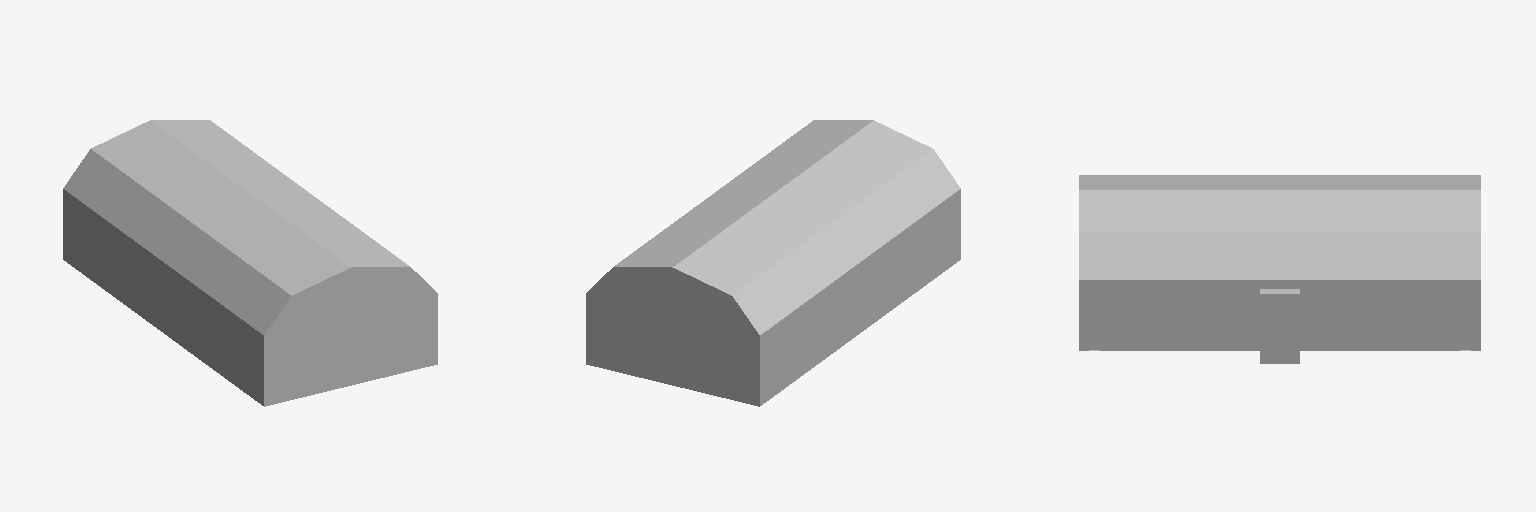
File: treasurechesttop.obj
3 renders of one model, left to right at view 1: azimuth 30°, elevation 25°; view 2: azimuth 150°, elevation 25°; view 3: azimuth 270°, elevation 25°, orthographic.
Parts seen in each view (by area): view 1: Cube.002; view 2: Cube.002; view 3: Cube.002.
Part boxes in pixels (bbox=[...]): Cube.002: bbox=[63, 120, 437, 406]; Cube.002: bbox=[586, 120, 960, 406]; Cube.002: bbox=[1079, 175, 1480, 363].
Bounding box in the file's own units: 0.8492 × 0.5566 × 1.6.